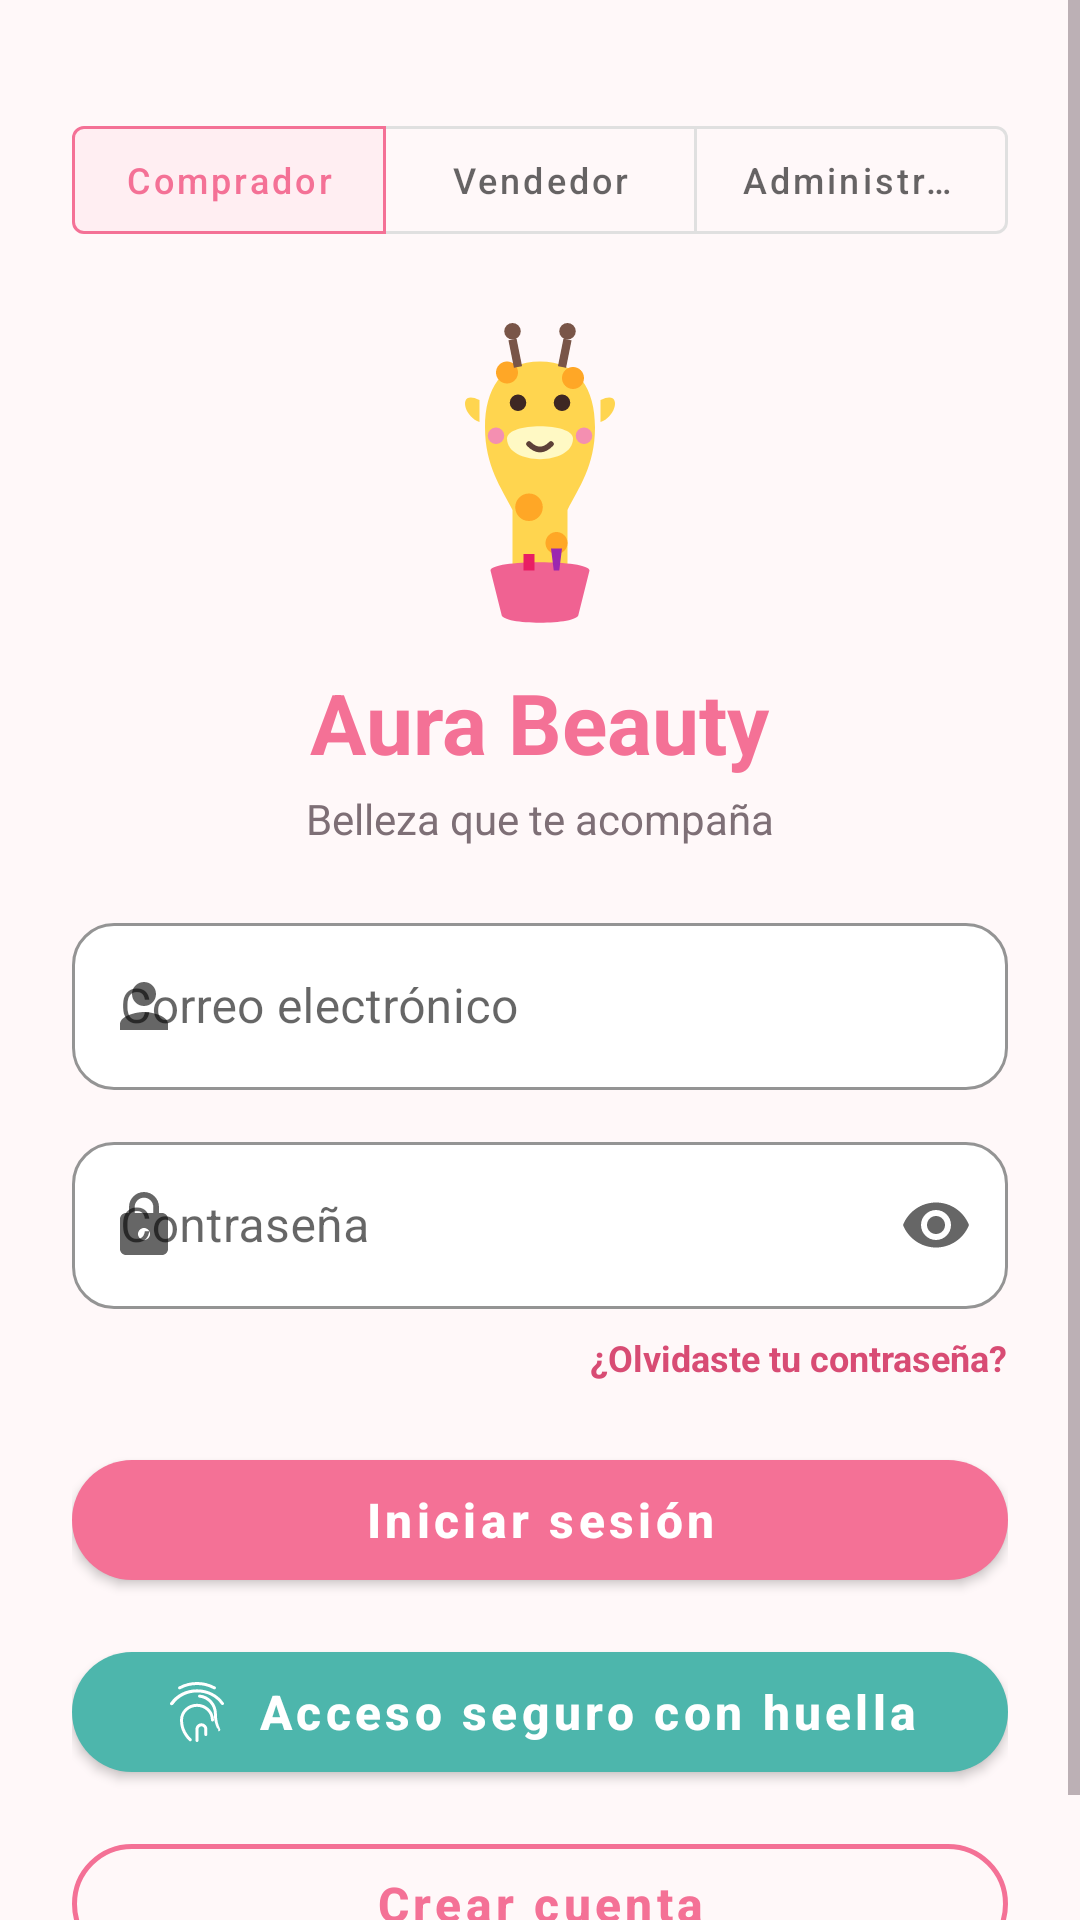

Screen size 1080 x 1920. Icon name, then its box in pixels as bbox(x1, y1, x2, y2):
giraffe mascot: bbox(465, 323, 615, 623)
